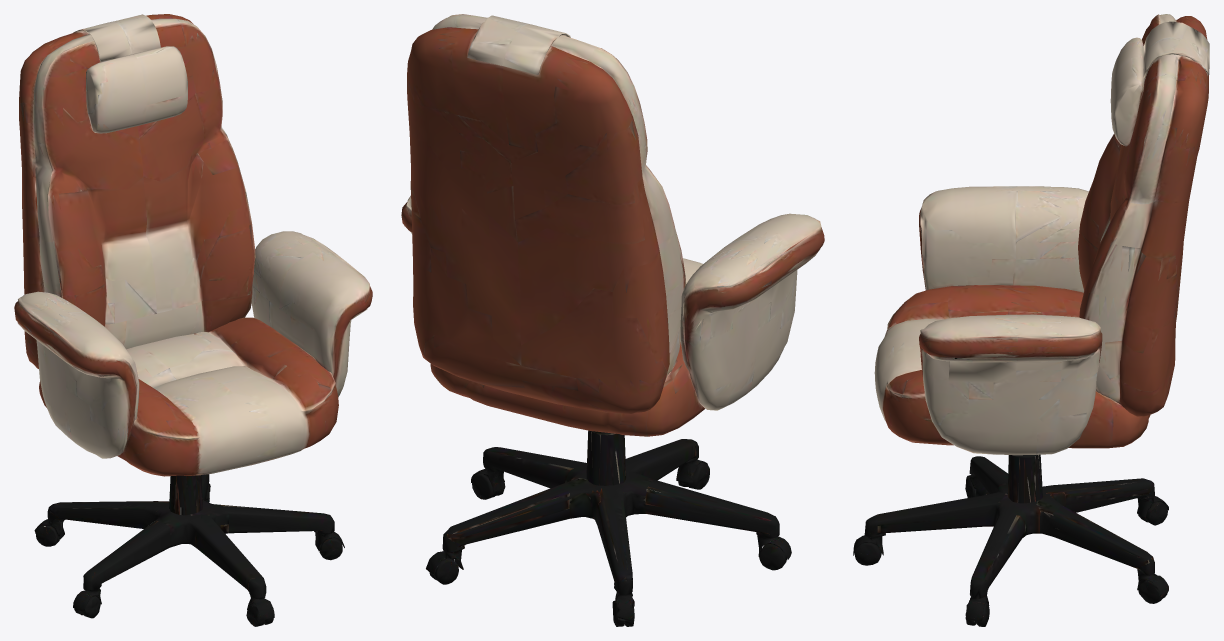
Rendered from chair_office_highback.glb.
3 renders of one model, left to right at view 1: azimuth 30°, elevation 25°; view 2: azimuth 150°, elevation 25°; view 3: azimuth 270°, elevation 25°, orthographic. The views are drawn at different scales.
Visible parts, largest first — view 1: prop; view 2: prop; view 3: prop.
Part boxes in pixels (x1,y1,x2,y2): prop: (14, 14, 372, 626); prop: (401, 14, 824, 626); prop: (853, 14, 1209, 626).
Size of the model in its own units: 0.7542 by 1.2 by 0.7375.
1 material, 1 textured.
